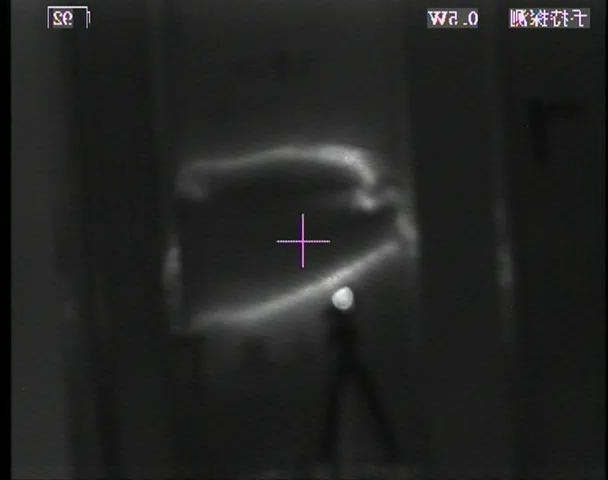my: (330, 285, 355, 313)
